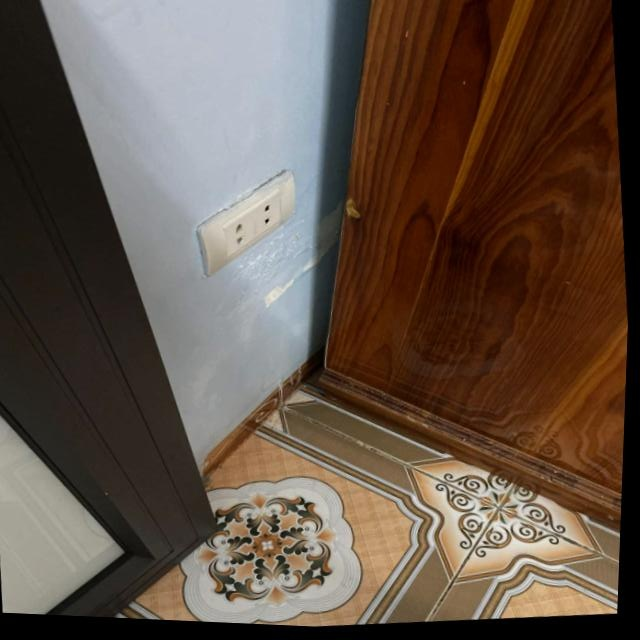outlet: (191, 164, 305, 280)
